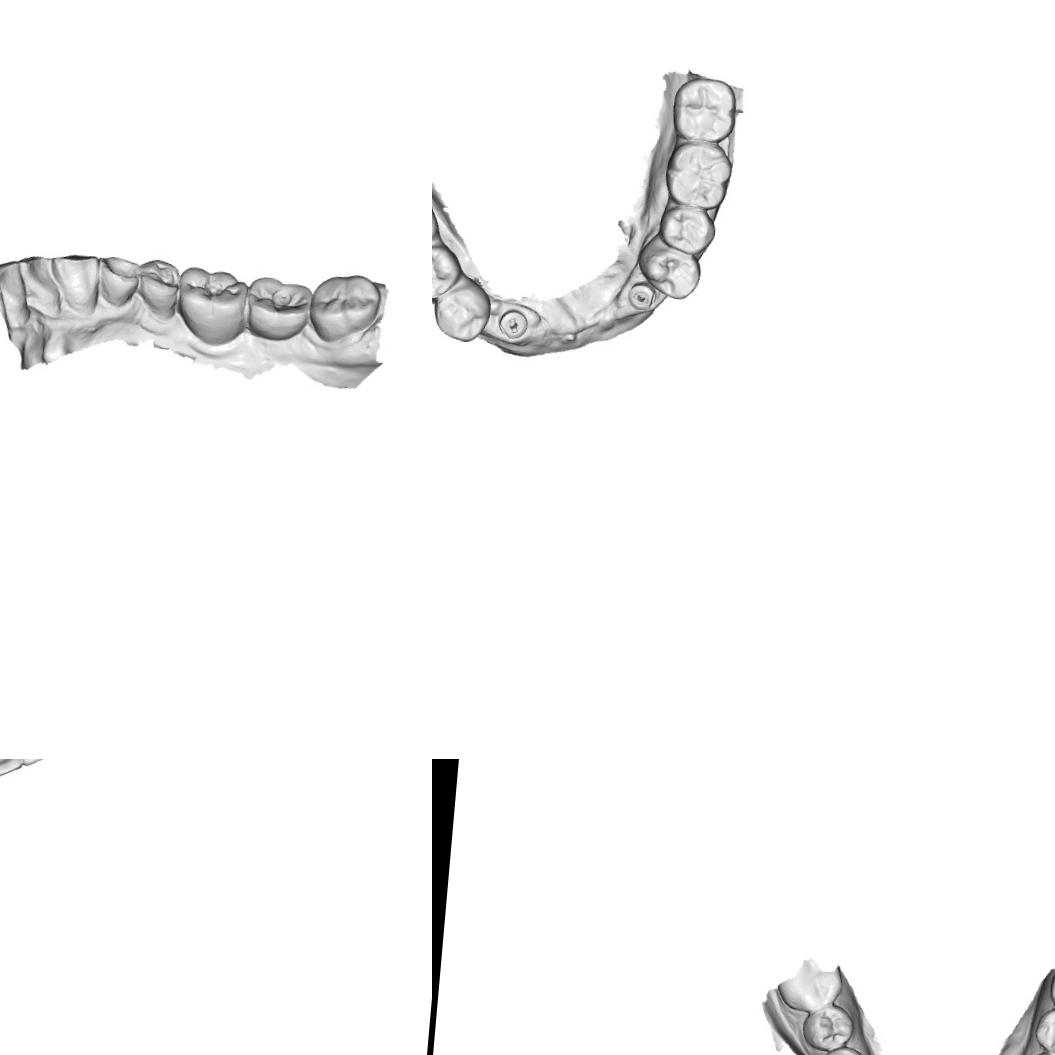canine: (92, 253, 145, 313)
implant_minus: (495, 307, 529, 340), (626, 280, 658, 312)
incisor: (12, 246, 68, 318), (44, 248, 104, 313), (0, 257, 34, 332)
molar: (171, 261, 251, 349), (239, 266, 320, 350), (303, 266, 385, 348), (661, 139, 734, 211), (668, 74, 739, 143)
premolar: (633, 232, 704, 300), (432, 274, 493, 343), (132, 250, 186, 322), (656, 201, 718, 257), (799, 1000, 856, 1054), (432, 240, 462, 301), (1031, 1005, 1055, 1055), (816, 1042, 868, 1055)
